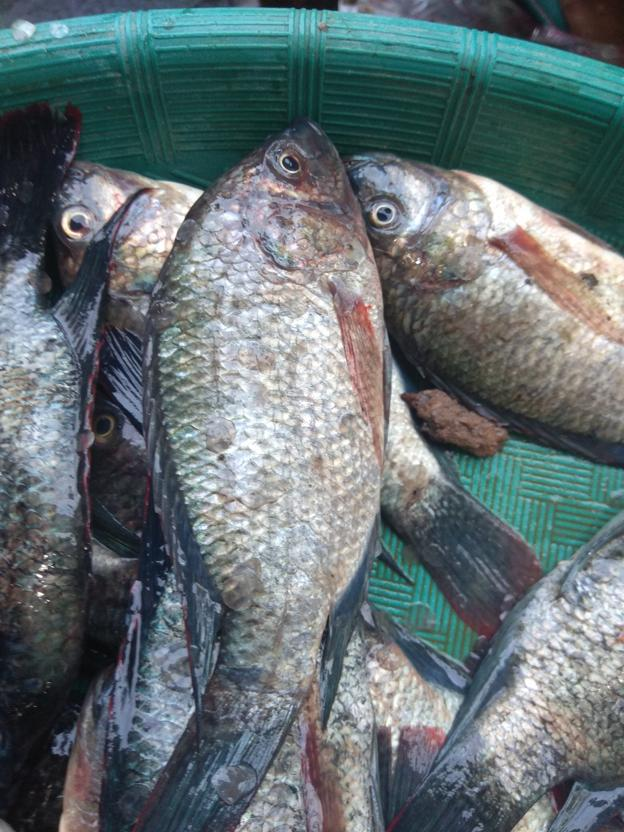Fish head: (167, 119, 374, 269), (345, 151, 505, 293), (50, 153, 197, 307), (91, 391, 153, 519)
Fish tail: (149, 663, 307, 830), (397, 477, 545, 635), (1, 96, 91, 250), (391, 734, 522, 832)
